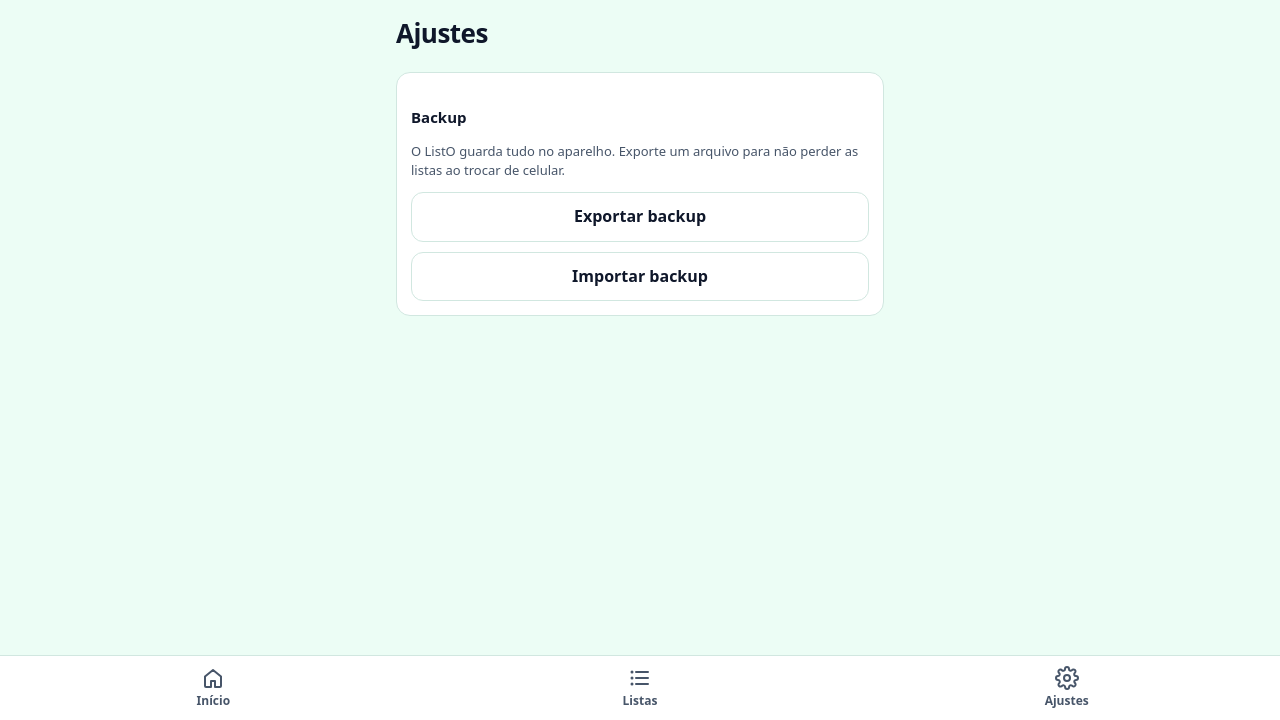
it: R43: exportar backup pela tela de ajustes › gera um JSON com as listas, itens e produtos
Click the button "Exportar backup" at (640, 217), box [411,192,869,242]
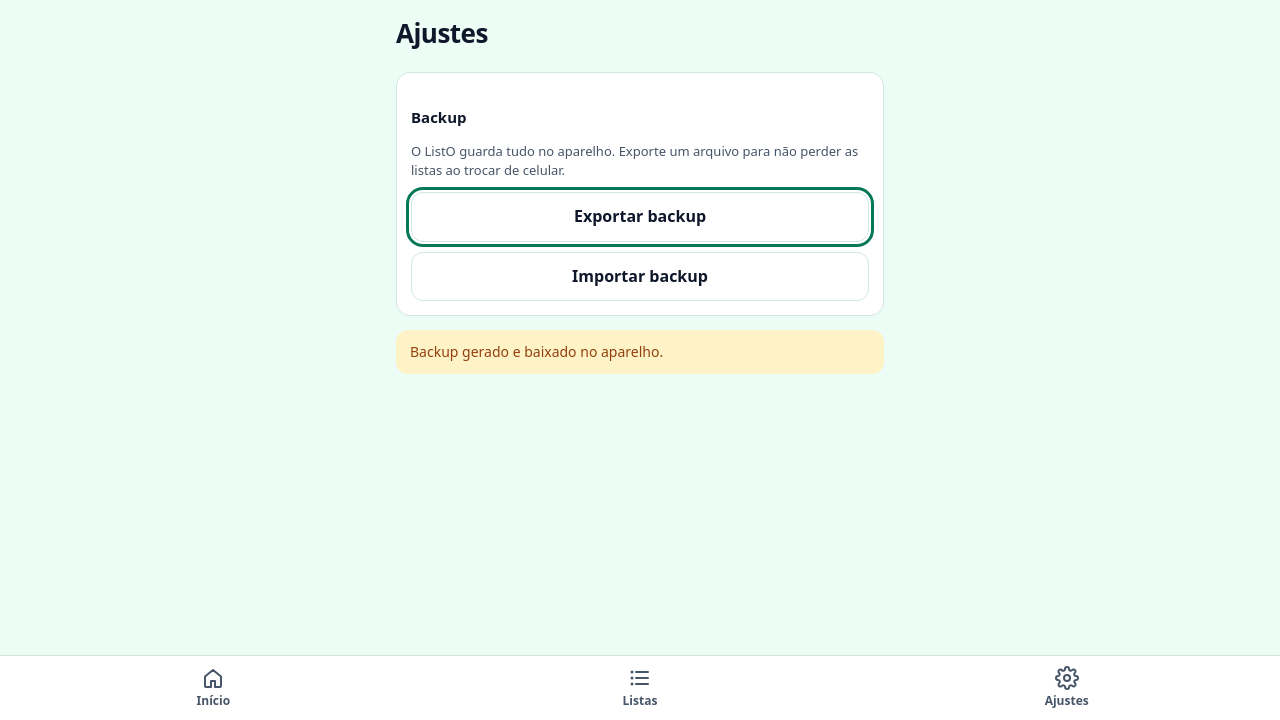
Now the text "Backup gerado e baixado no aparelho." is shown, box [396,330,884,374]
